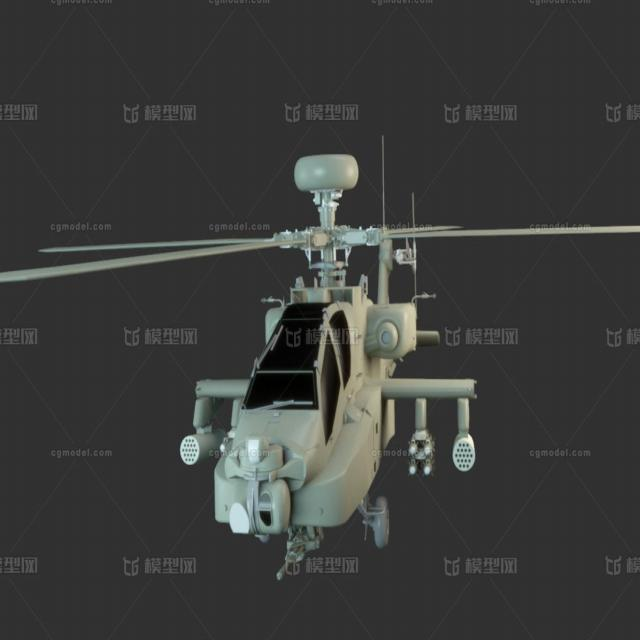MIL_HELO: (26, 147, 631, 578)
